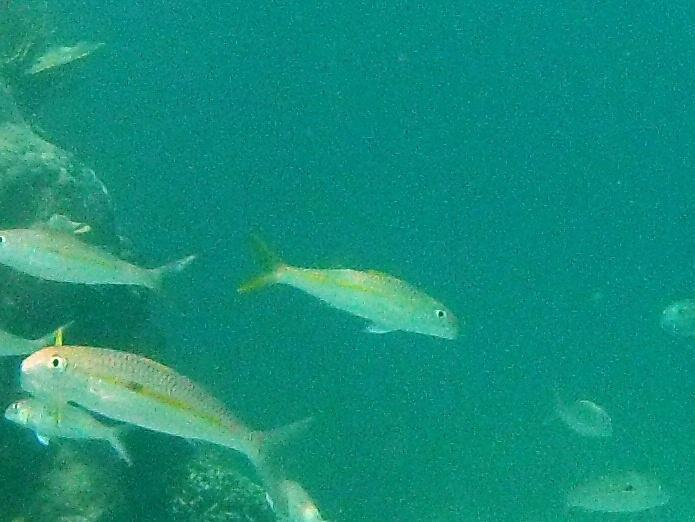Fish: (20, 319, 341, 520), (214, 222, 492, 382)
